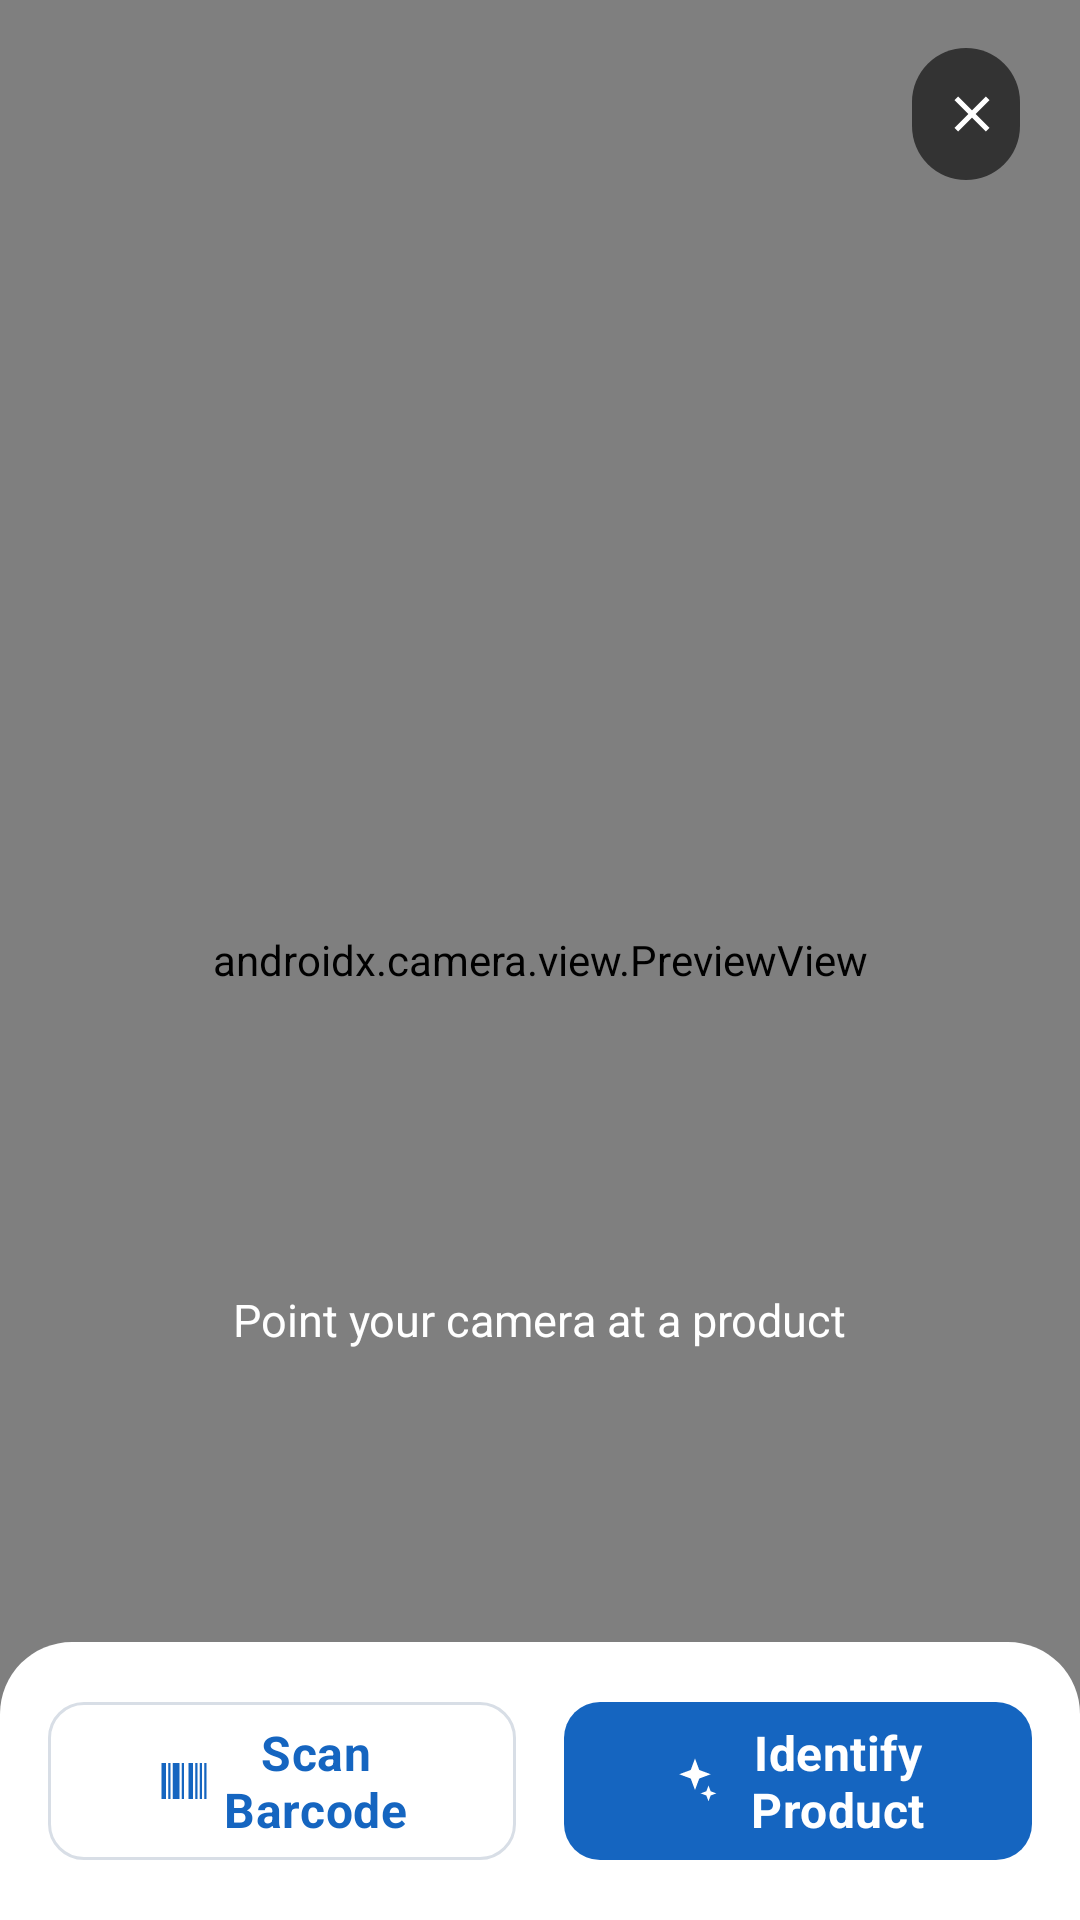

Icons on this 1080×1920 Android screen, each with the point to tap as point (x, y):
close: point (966, 114)
